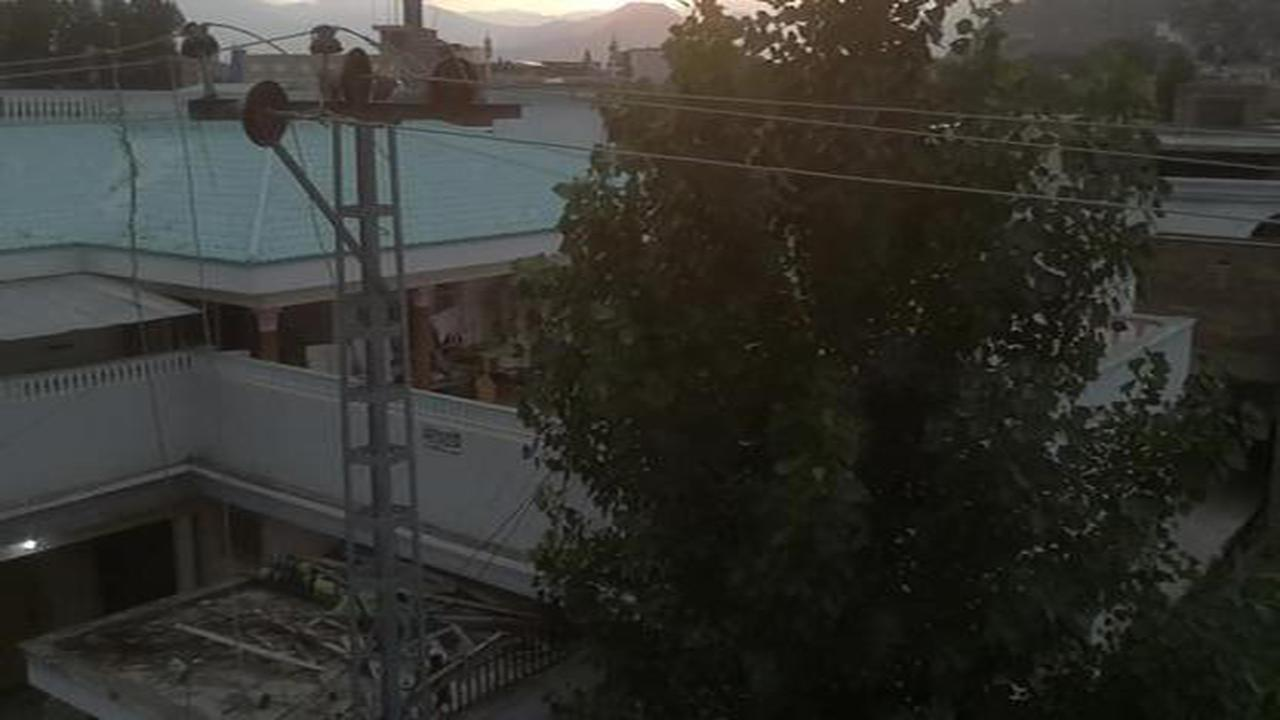insulator_disc: (237, 80, 294, 146), (431, 53, 478, 109), (341, 50, 381, 106)
insulator_pin: (173, 18, 222, 60), (307, 20, 343, 61)
